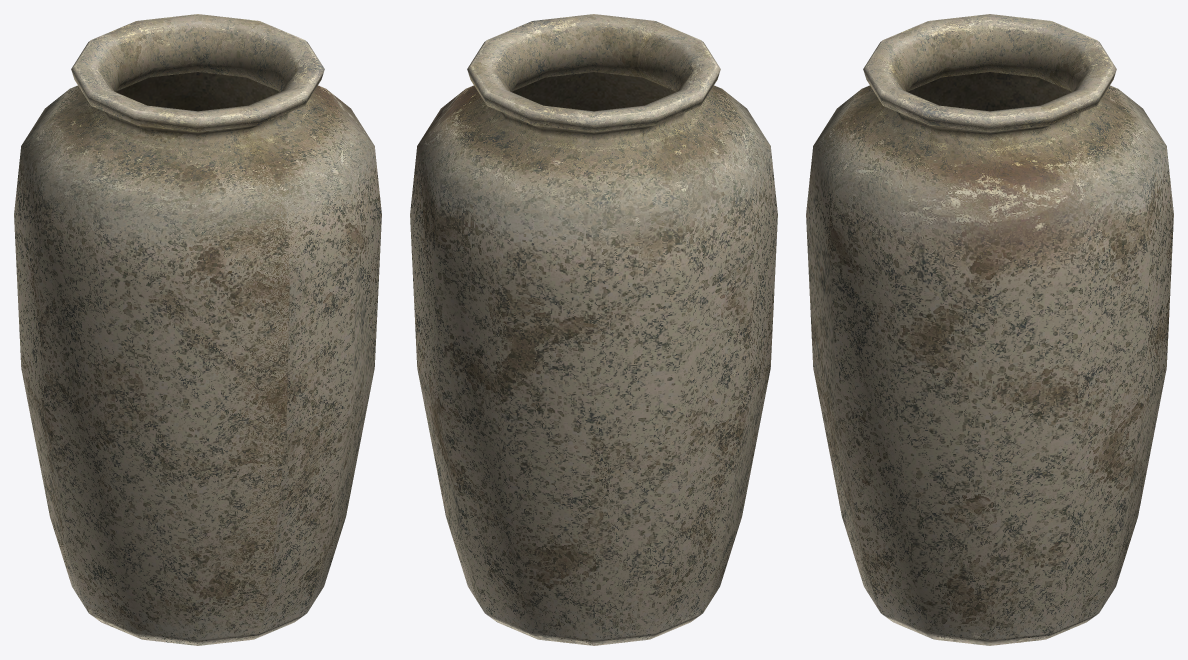
File: pottery_basic_small.dae
3 renders of one model, left to right at view 1: azimuth 30°, elevation 25°; view 2: azimuth 150°, elevation 25°; view 3: azimuth 270°, elevation 25°, orthographic.
Visible parts, largest first — view 1: pottery; view 2: pottery; view 3: pottery.
Part boxes in pixels (left/top/right/bottom): pottery: left=14, top=14, right=381, bottom=645; pottery: left=410, top=14, right=777, bottom=645; pottery: left=806, top=14, right=1173, bottom=645.
Bounding box in the file's own units: 0.4381 × 0.7016 × 0.4381.
